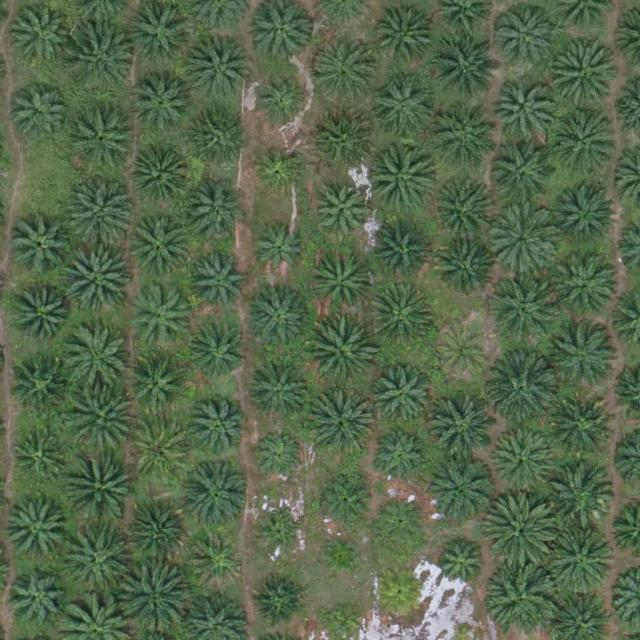Healthy: (65, 24, 136, 95), (362, 142, 433, 213), (549, 41, 620, 112), (65, 384, 136, 455), (65, 245, 136, 316), (68, 109, 138, 180), (185, 34, 255, 105), (312, 34, 382, 105), (431, 34, 501, 105), (487, 204, 557, 275), (551, 106, 621, 177), (60, 526, 130, 597), (547, 523, 617, 594), (486, 493, 556, 564), (545, 459, 615, 530), (487, 276, 557, 347), (305, 388, 376, 458), (306, 318, 377, 388), (181, 459, 251, 530), (67, 448, 137, 519), (62, 326, 132, 397), (429, 396, 499, 467), (426, 454, 496, 525), (64, 179, 134, 249), (117, 565, 187, 635), (489, 562, 559, 632), (487, 355, 557, 425), (367, 282, 437, 352), (10, 214, 73, 277), (7, 85, 70, 148), (9, 7, 72, 70), (130, 215, 193, 278), (185, 111, 248, 174), (365, 219, 428, 282), (554, 181, 617, 244), (4, 500, 67, 563), (492, 431, 555, 494), (370, 364, 433, 427), (310, 251, 373, 314), (133, 144, 195, 207), (133, 71, 195, 134), (189, 179, 251, 242), (320, 109, 382, 172), (375, 4, 437, 67), (371, 76, 433, 139), (430, 176, 492, 239), (436, 113, 498, 176), (495, 5, 557, 68), (493, 78, 555, 141), (489, 144, 551, 207), (8, 569, 70, 632), (554, 255, 617, 317), (554, 328, 617, 390), (549, 399, 612, 461), (430, 236, 493, 298), (247, 289, 309, 352), (248, 359, 310, 422), (187, 396, 249, 459), (128, 283, 190, 346), (126, 351, 188, 414), (130, 419, 192, 482), (12, 354, 74, 417), (127, 503, 189, 565), (12, 283, 74, 345), (250, 224, 305, 279), (254, 141, 309, 196), (254, 71, 309, 126), (313, 184, 368, 239), (373, 494, 428, 549), (190, 533, 245, 588), (252, 573, 307, 628), (374, 429, 429, 484), (317, 475, 372, 530), (251, 430, 306, 485), (191, 325, 246, 380), (190, 257, 245, 312), (11, 429, 66, 484), (433, 536, 487, 591)
Small: (317, 532, 364, 580), (259, 514, 306, 561)
Yellow: (373, 564, 428, 620), (436, 326, 491, 381)
